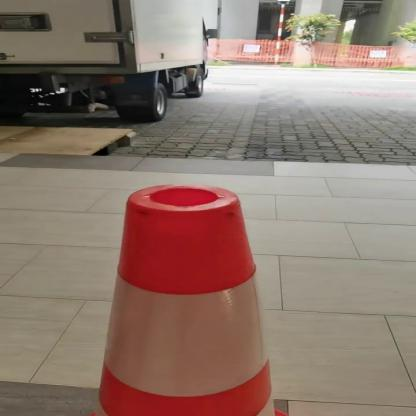cone: (72, 178, 318, 416)
